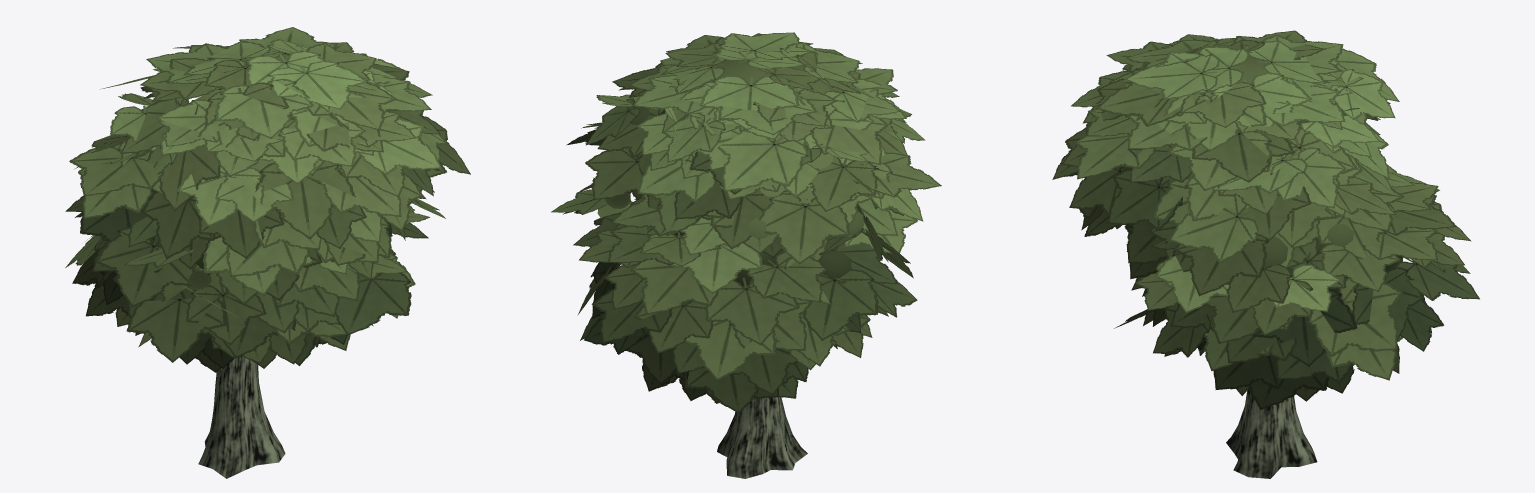
File: ZonTree05.glb
3 renders of one model, left to right at view 1: azimuth 30°, elevation 25°; view 2: azimuth 150°, elevation 25°; view 3: azimuth 270°, elevation 25°, orthographic. The views are drawn at different scales.
Parts seen in each view (by area): view 1: ZonTree05_leaves; view 2: ZonTree05_leaves; view 3: ZonTree05_leaves.
Boxes of the visible parts, x1,y1,x2,y2 form: ZonTree05_leaves: (65, 27, 470, 478); ZonTree05_leaves: (551, 32, 941, 478); ZonTree05_leaves: (1052, 30, 1479, 478).
Bounding box in the file's own units: 14.03 × 11.72 × 13.26.
Materials: 3 (2 with a texture image).
